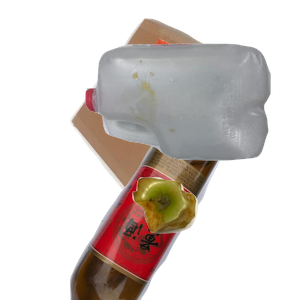cardboard: (67, 16, 295, 196)
glass: (67, 120, 282, 300)
plastic: (83, 41, 300, 194)
trash: (130, 175, 300, 300)
